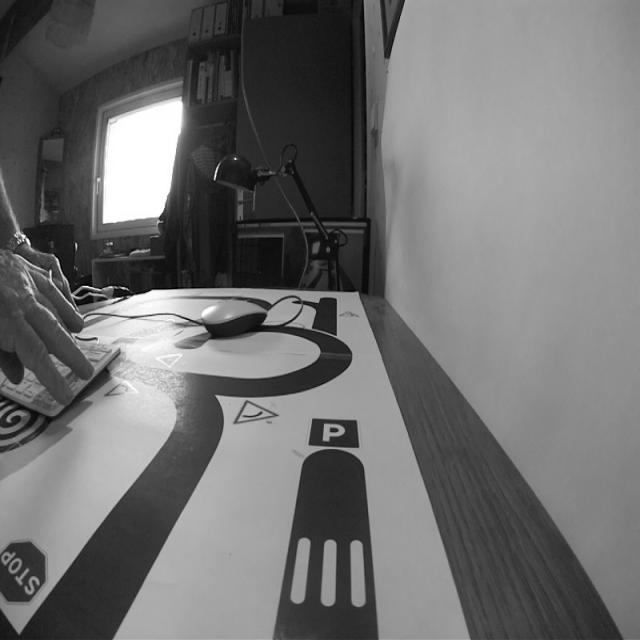Parking: (304, 412, 362, 452)
zebracross: (276, 530, 382, 612)
